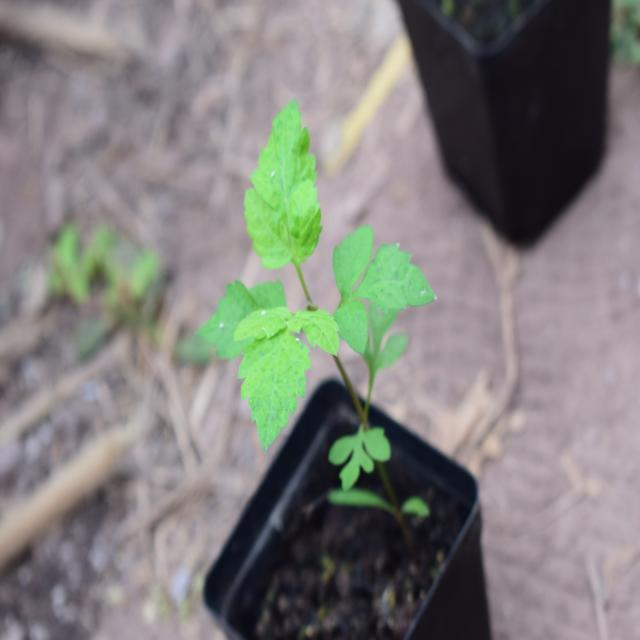Bidens pilosa: (202, 84, 425, 511)
